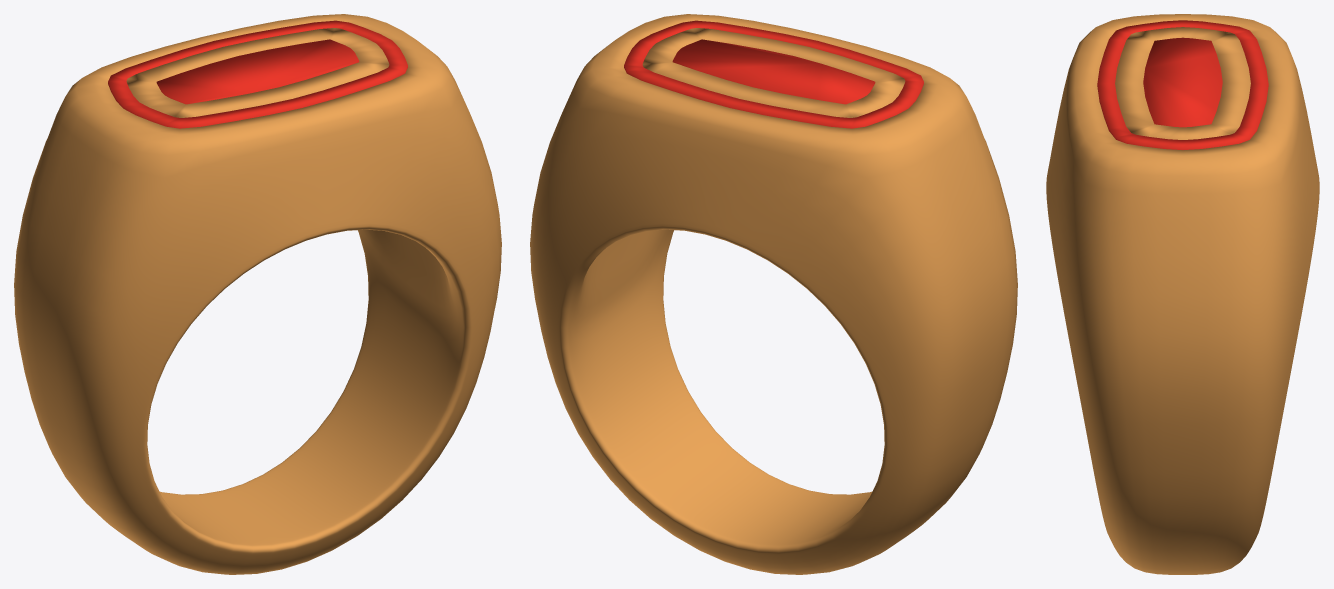
Rendered from ring.fbx.
3 renders of one model, left to right at view 1: azimuth 30°, elevation 25°; view 2: azimuth 150°, elevation 25°; view 3: azimuth 270°, elevation 25°, orthographic. The views are drawn at different scales.
Visible parts, largest first — view 1: ring; view 2: ring; view 3: ring.
Boxes of the visible parts, left/top/right/bottom form: ring: left=14, top=14, right=501, bottom=574; ring: left=530, top=14, right=1017, bottom=574; ring: left=1046, top=14, right=1319, bottom=574.
Bounding box in the file's own units: 440 × 477 × 250.
